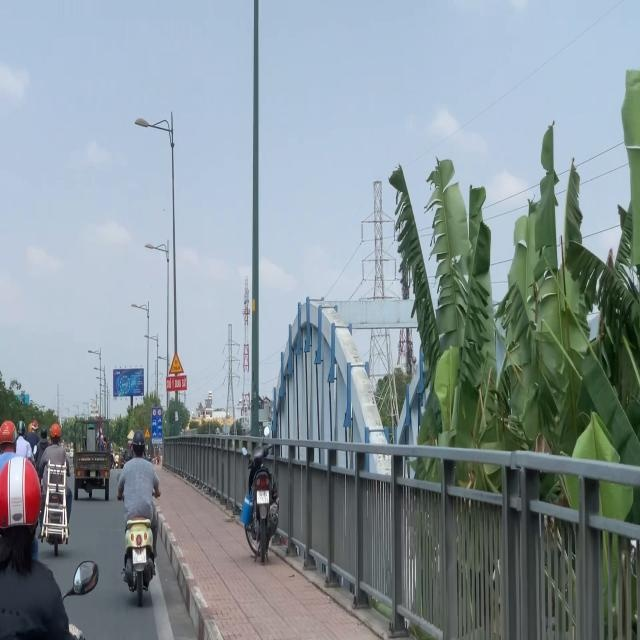bien_cam: (168, 351, 184, 375), (152, 408, 157, 416), (157, 408, 162, 416)
